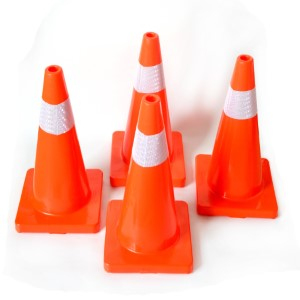traffic cone: (104, 93, 192, 273), (15, 64, 102, 234), (196, 53, 279, 218), (109, 31, 186, 188)
